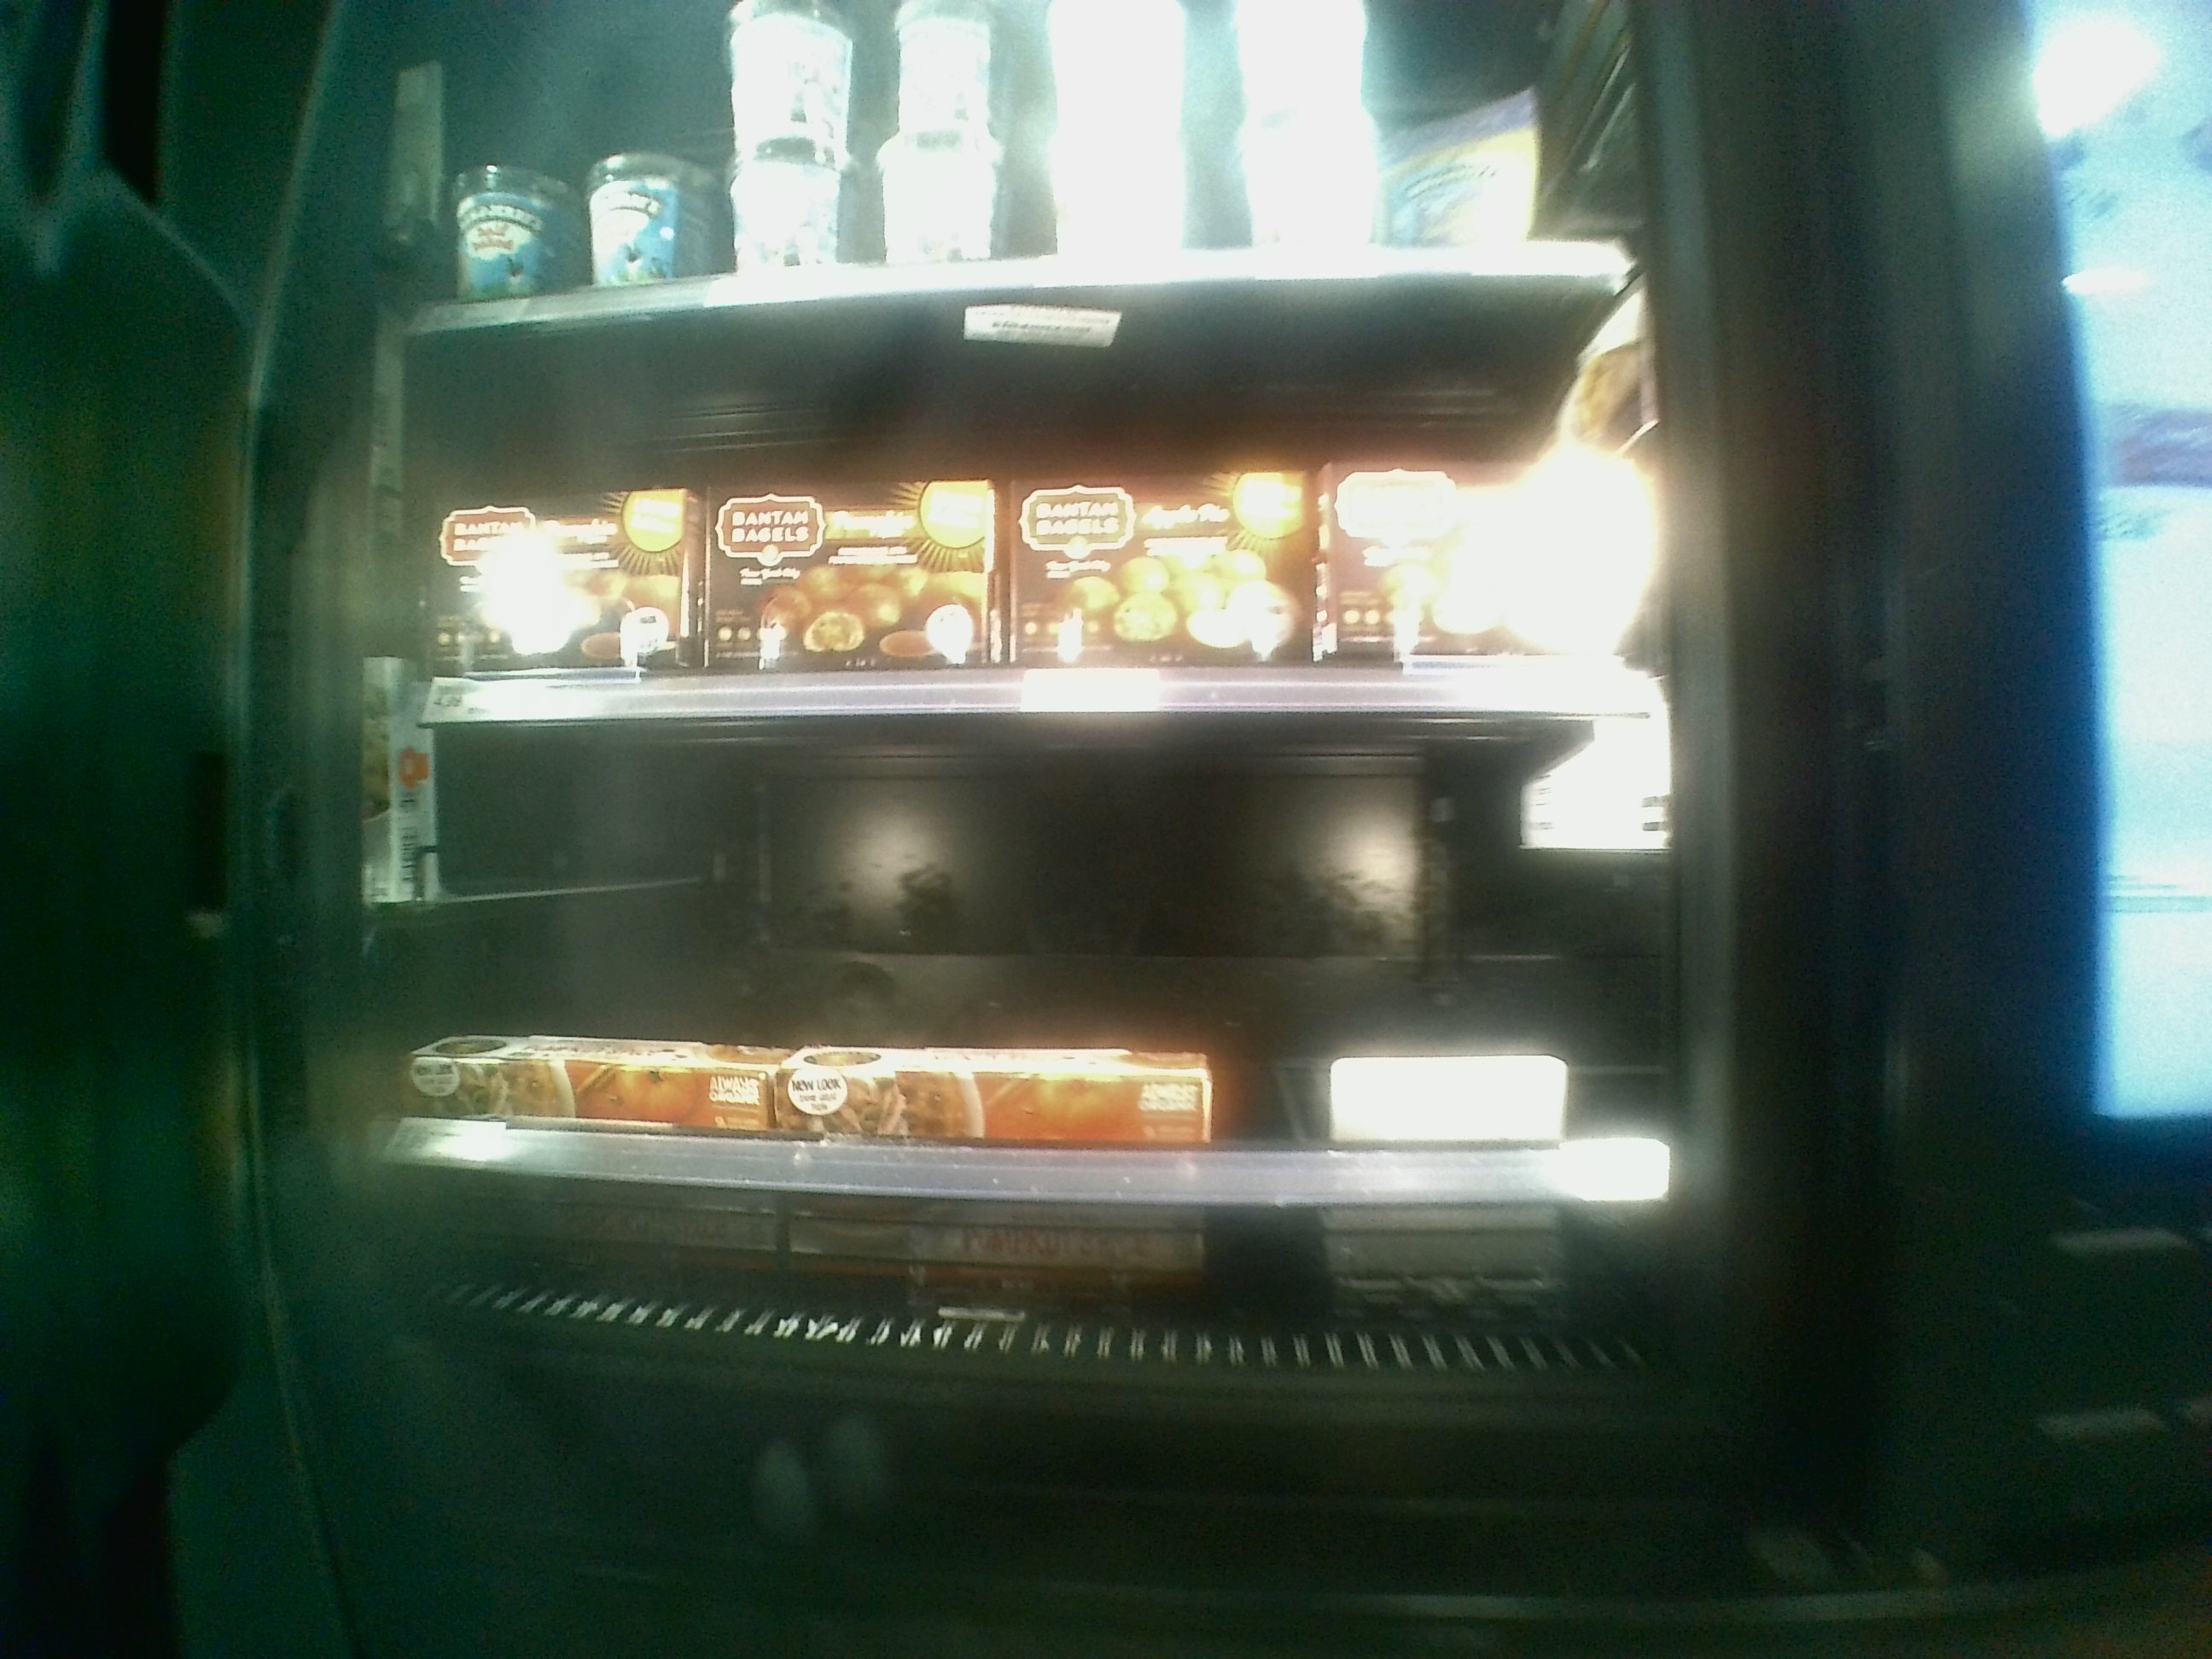shelf: (399, 695, 1667, 1197), (394, 324, 1658, 704)
